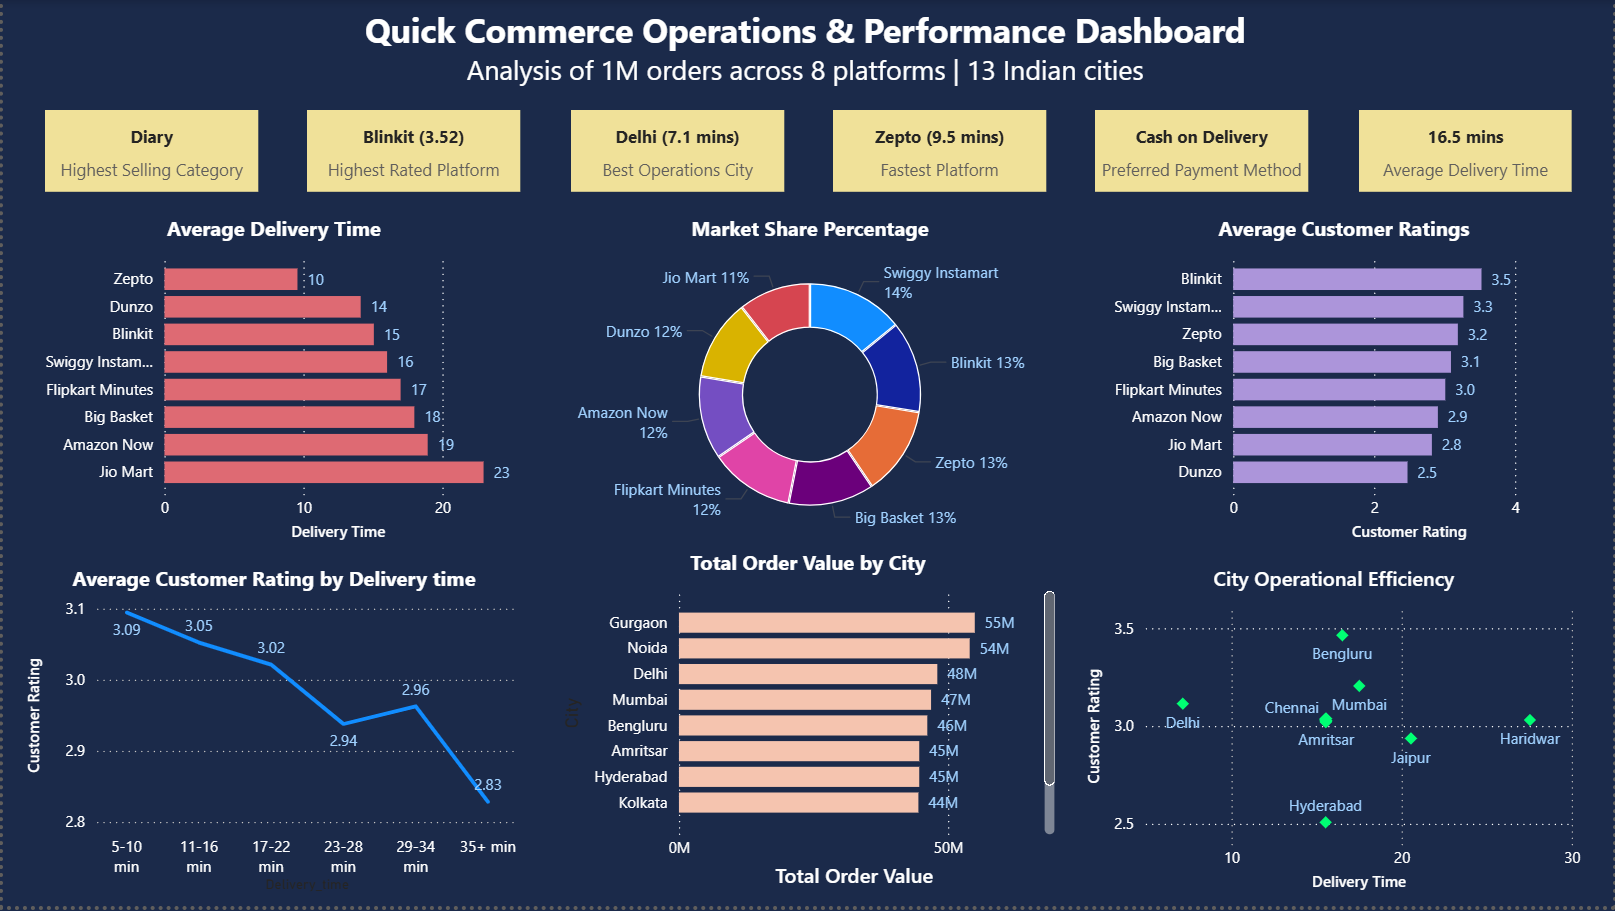

This screenshot's page, from the dashboard's own definition file:
{"tool":"powerbi","page":{"name":"Page 1","canvas":[1280,720],"ordinal":0},"visuals":[{"type":"textbox","box":[276.1,0,722.1,125.5],"z":0},{"type":"card","fields":{"Values":["Min(00_KPI_Summary.KPI_Value)"]},"box":[33.6,87.4,169.6,65.2],"z":1000,"group":"g1"},{"type":"card","fields":{"Values":["Min(00_KPI_Summary.KPI_Value)"]},"box":[242.3,87.4,169.6,65.2],"z":2000,"group":"g1"},{"type":"card","fields":{"Values":["Min(00_KPI_Summary.KPI_Value)"]},"box":[451,87.4,169.6,65.2],"z":3000,"group":"g1"},{"type":"card","fields":{"Values":["Min(00_KPI_Summary.KPI_Value)"]},"box":[868.4,87.4,169.6,65.2],"z":4000,"group":"g1"},{"type":"card","fields":{"Values":["Min(00_KPI_Summary.KPI_Value)"]},"box":[659.7,87.4,169.6,65.2],"z":5000,"group":"g1"},{"type":"card","fields":{"Values":["Min(00_KPI_Summary.KPI_Value)"]},"box":[1077.1,87.4,169.2,65.2],"z":6000,"group":"g1"},{"type":"donutChart","title":"Market Share Percentage","fields":{"Y":["Sum(03_Revenue_Market_Share.Market_Share_Percentage)"],"Category":["03_Revenue_Market_Share.Company"]},"box":[439.5,170.1,402,265.4],"z":7000,"group":"g2"},{"type":"clusteredBarChart","title":"Average Delivery Time","fields":{"Category":["04_Avg_Delivery_Time_By_Company.Company"],"Y":["Sum(04_Avg_Delivery_Time_By_Company.AVG_Delivery_time)"]},"box":[14.3,170.1,402.1,265],"z":8000,"group":"g2"},{"type":"clusteredBarChart","title":"Average Customer Ratings","fields":{"Category":["05_Customer_Rating_By_Company.Company"],"Y":["Sum(05_Customer_Rating_By_Company.AVG_Customer_rating)"]},"box":[864.6,170.1,402,265],"z":9000,"group":"g2"},{"type":"lineChart","title":"Average Customer Rating by Delivery time","fields":{"Category":["09_Delivery_Time_vs_Customer_Rating.Delivery_time"],"Y":["Sum(09_Delivery_Time_vs_Customer_Rating.Avg_Customer_rating)"]},"box":[14.3,448.2,402.1,265],"z":10000},{"type":"clusteredBarChart","title":"Total Order Value by City","fields":{"Category":["06_Top10_Cities_Dominant_Company.City"],"Y":["Sum(06_Top10_Cities_Dominant_Company.Total_order_value)"]},"box":[438.7,435.5,402.1,275],"z":11000},{"type":"scatterChart","title":"City Operational Efficiency","fields":{"X":["Sum(12_City_Operational_Efficiency.Avg_delivery_time)"],"Y":["Sum(12_City_Operational_Efficiency.Avg_customer_rating)"],"Category":["12_City_Operational_Efficiency.City"]},"box":[856.7,448.2,402,265],"z":12000},{"type":"group","id":"g1","title":"Group 1","box":[33.6,87.4,1212.7,65.2],"z":12001},{"type":"group","id":"g2","title":"Group 2","box":[14.3,170.1,1252.5,265.4],"z":12002}]}

Visuals, with their boxes in screenshot pixels (x1, y1, x2, y2), scaled from the page's 1280x720 canvas onto the 1615x911 screenshot:
textbox: region(348, 0, 1259, 159)
card - Min(00_KPI_Summary.KPI_Value): region(42, 111, 256, 193)
card - Min(00_KPI_Summary.KPI_Value): region(306, 111, 520, 193)
card - Min(00_KPI_Summary.KPI_Value): region(569, 111, 783, 193)
card - Min(00_KPI_Summary.KPI_Value): region(1096, 111, 1310, 193)
card - Min(00_KPI_Summary.KPI_Value): region(832, 111, 1046, 193)
card - Min(00_KPI_Summary.KPI_Value): region(1359, 111, 1572, 193)
"Market Share Percentage" donutChart: region(555, 215, 1062, 551)
"Average Delivery Time" clusteredBarChart: region(18, 215, 525, 551)
"Average Customer Ratings" clusteredBarChart: region(1091, 215, 1598, 551)
"Average Customer Rating by Delivery time" lineChart: region(18, 567, 525, 902)
"Total Order Value by City" clusteredBarChart: region(554, 551, 1061, 899)
"City Operational Efficiency" scatterChart: region(1081, 567, 1588, 902)
"Group 1" group: region(42, 111, 1572, 193)
"Group 2" group: region(18, 215, 1598, 551)
